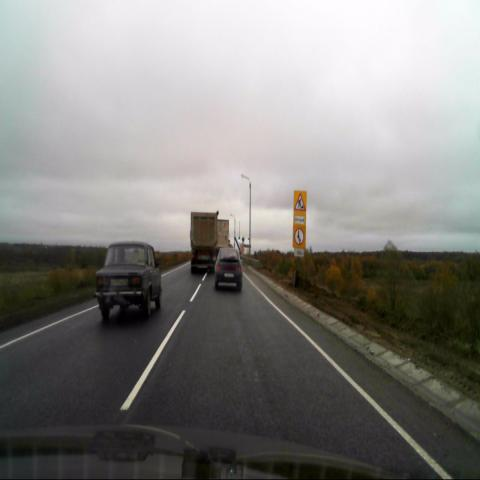2_6: (292, 226, 306, 247)
